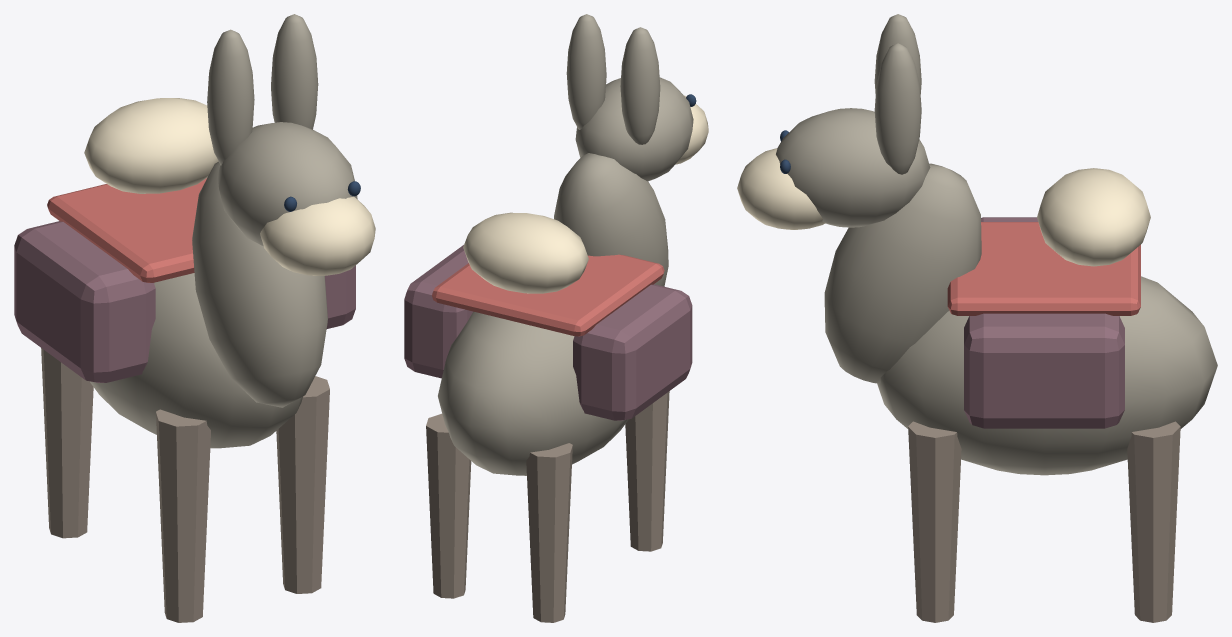
File: donkey.glb
3 views of the same model, side by side, from view 1: azimuth 30°, elevation 25°; view 2: azimuth 150°, elevation 25°; view 3: azimuth 270°, elevation 25° (orthographic). The views are drawn at different scales.
Visible parts, largest first — view 1: Neck, Packed pannier, Donkey body, Head.004, Bedroll, Saddle blanket, Leg.004, Leg.006, Leg.005, Muzzle, Ear.002, Ear.003 (+1 smaller); view 2: Donkey body, Packed pannier, Saddle blanket, Neck, Bedroll, Leg.005, Leg.007, Head.004, Leg.004, Packed pannier.001, Ear.002, Ear.003 (+1 smaller); view 3: Donkey body, Neck, Packed pannier.001, Saddle blanket, Head.004, Leg.007, Leg.006, Bedroll, Ear.003, Muzzle, Ear.002.
Boxes of the visible parts, box(x1,y1,x2,y2) form: Neck: box(192, 161, 327, 407); Packed pannier: box(14, 221, 155, 382); Donkey body: box(89, 273, 302, 448); Head.004: box(217, 122, 357, 245); Bedroll: box(84, 98, 218, 193); Saddle blanket: box(47, 178, 206, 282); Leg.004: box(156, 409, 210, 622); Leg.006: box(276, 376, 329, 593); Leg.005: box(41, 348, 93, 538); Muzzle: box(260, 196, 375, 275); Ear.002: box(207, 29, 254, 165); Ear.003: box(271, 14, 318, 129); Donkey body: box(438, 311, 628, 475); Packed pannier: box(573, 284, 692, 420); Saddle blanket: box(432, 254, 664, 336); Neck: box(554, 153, 668, 286); Bedroll: box(463, 212, 588, 293); Leg.005: box(526, 443, 572, 622); Leg.007: box(426, 413, 471, 598); Head.004: box(575, 77, 693, 181); Leg.004: box(625, 391, 669, 551); Packed pannier.001: box(404, 245, 472, 378); Ear.002: box(620, 27, 660, 144); Ear.003: box(566, 14, 606, 129); Donkey body: box(877, 276, 1217, 475); Neck: box(824, 163, 981, 383); Packed pannier.001: box(964, 313, 1124, 428); Saddle blanket: box(947, 222, 1140, 315); Head.004: box(776, 108, 930, 227); Leg.007: box(1127, 421, 1180, 622); Leg.006: box(908, 421, 961, 622); Bedroll: box(1037, 168, 1150, 266); Ear.003: box(874, 43, 921, 174); Muzzle: box(737, 148, 825, 229); Ear.002: box(874, 14, 921, 93).
Size of the model in its own units: 1.2 by 2.49 by 1.94.
